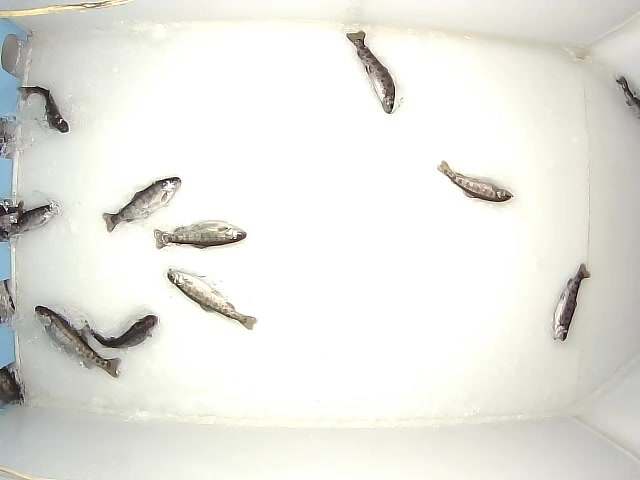fish: (34, 305, 122, 379), (166, 267, 258, 331), (101, 176, 182, 233), (344, 28, 397, 115), (435, 159, 515, 204), (79, 313, 159, 356), (551, 263, 592, 344), (153, 219, 247, 251), (16, 86, 71, 134)
